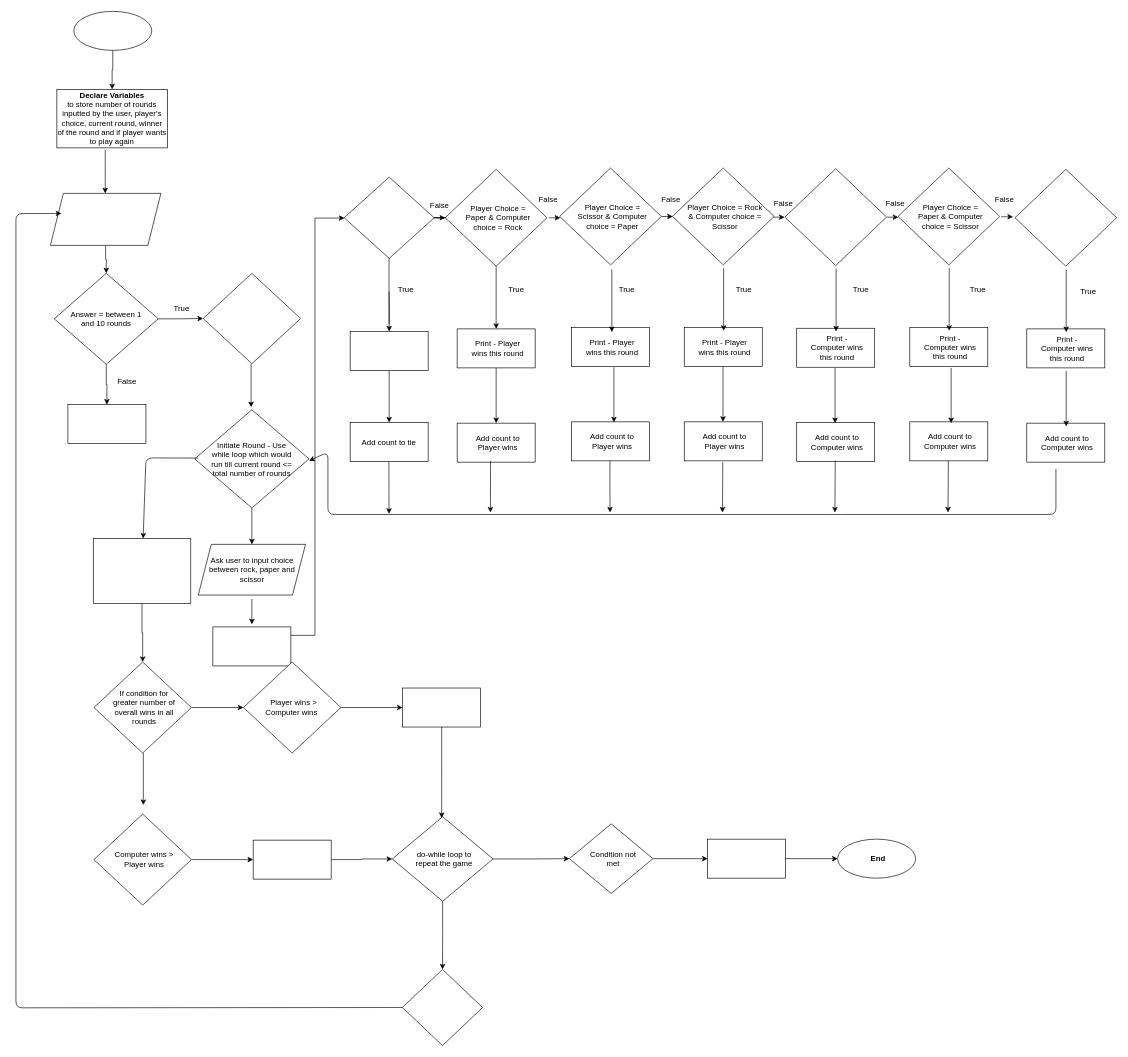
The diagram is 1128 pixels wide and 1057 high, and some of its shapes have lost their labels. Here are the shapes that lost their labels. From the top down, the centre of each, then its label:
At point 112,30: "Start".
At point 105,219: "Prompt user to input how many rounds he/she wants to play".
At point 389,217: "Player Choice = Computer choice".
At point 835,217: "Player Choice = Rock & Computer choice = Paper".
At point 1065,217: "Player Choice = Scissor & Computer choice = Rock".
At point 251,318: "Answer in bounds".
At point 389,350: "Print - Its a tie".
At point 106,424: "Out of Bound Message".
At point 142,571: "Display result of individual wins".
At point 251,646: "Generate random choice by computer between rock, paper and scissor".
At point 441,707: "Overall winner is the player".
At point 292,859: "Overall winner is computer".
At point 746,858: "Print Thank you message".
At point 442,1007: "Condition met".
